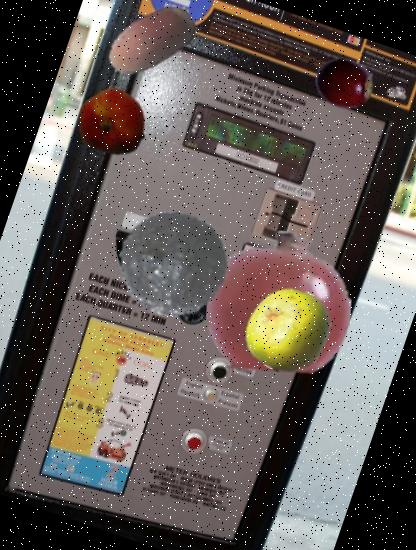Avocado: (102, 189, 251, 338)
Hazelnut: (89, 0, 210, 101)
Nectarine: (68, 77, 157, 166)
Pomelo: (234, 276, 342, 384)
Redcurrant: (187, 211, 370, 394)
Tamarillo: (307, 44, 386, 123)
